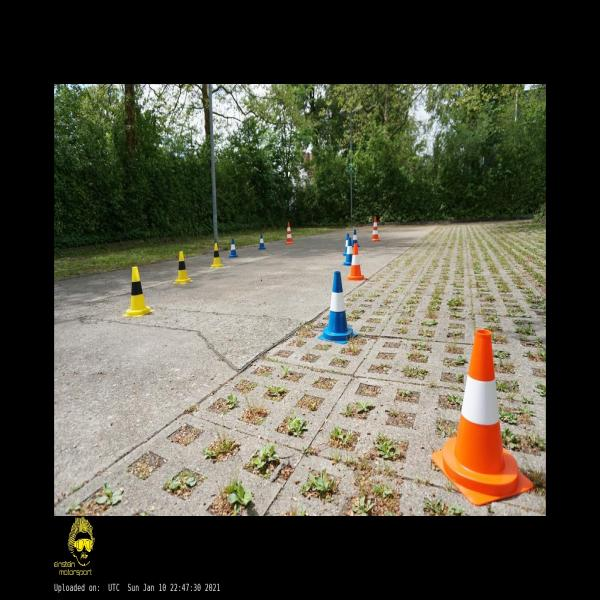blue_cone: (318, 271, 358, 344), (342, 238, 352, 265), (229, 239, 238, 257), (258, 233, 266, 249), (343, 234, 349, 255), (352, 230, 359, 246)
large_orange_cone: (371, 217, 380, 241), (285, 222, 293, 244)
orange_cone: (432, 329, 533, 506), (345, 244, 367, 280)
yellow_cone: (122, 266, 154, 316), (172, 252, 192, 284), (210, 243, 224, 267)
